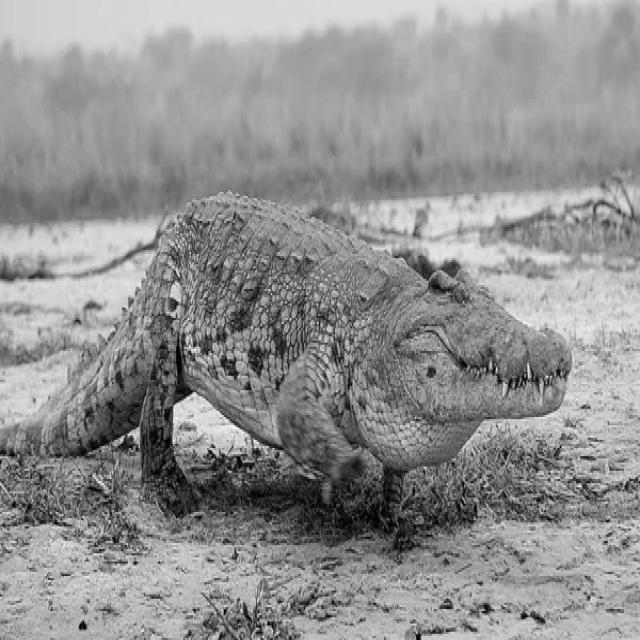Animal: (0, 194, 574, 514)
